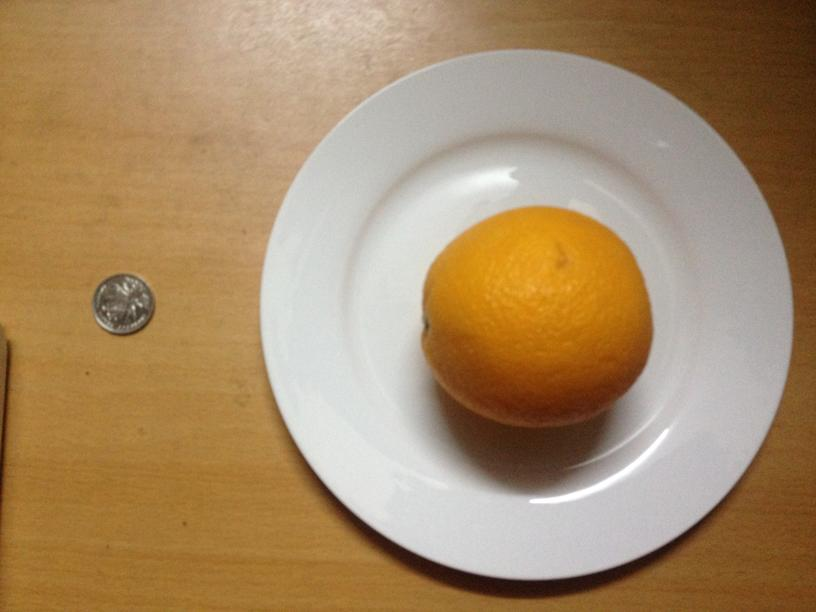coin: (92, 272, 155, 336)
orange: (413, 211, 650, 425)
